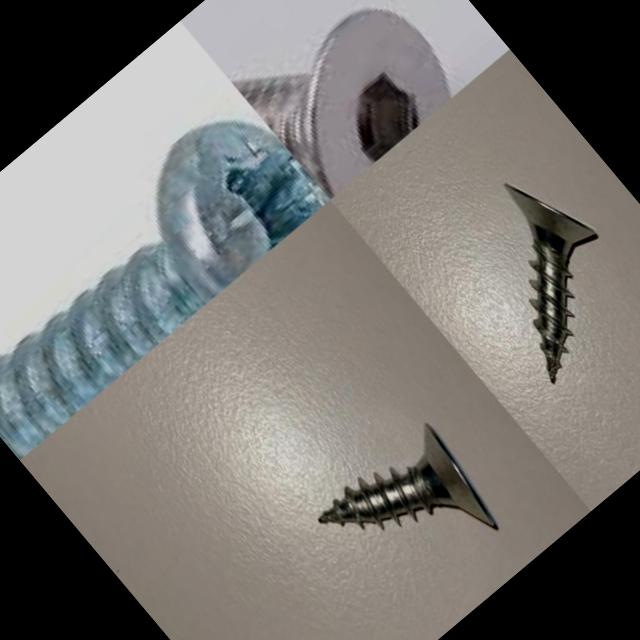Screw: (0, 118, 330, 460), (232, 9, 451, 199), (317, 422, 497, 527), (504, 182, 595, 382)
